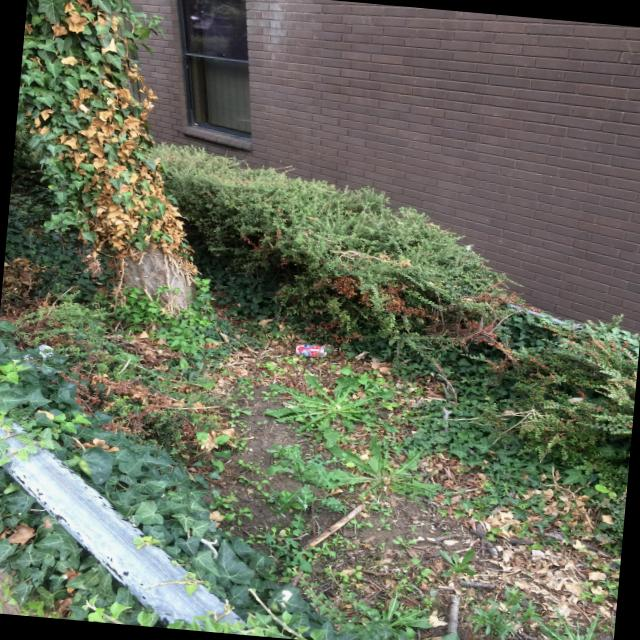Drink can: (295, 344, 326, 357)
